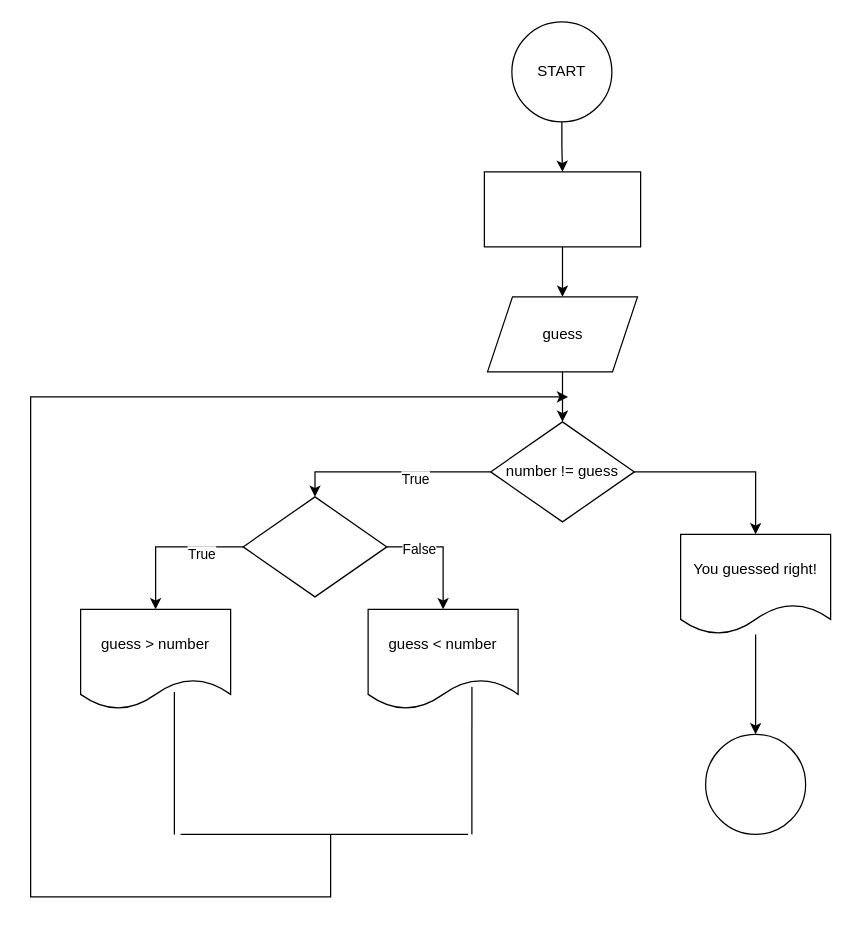
The diagram is 853 pixels wide and 929 high, and some of its shapes have lost their labels. The shapes that lost their labels are listed below. From the top down, each one's centre as x and y in pixels, then its label:
(562,209): number = rand[1,100]
(314,546): number < guess
(755,783): END
